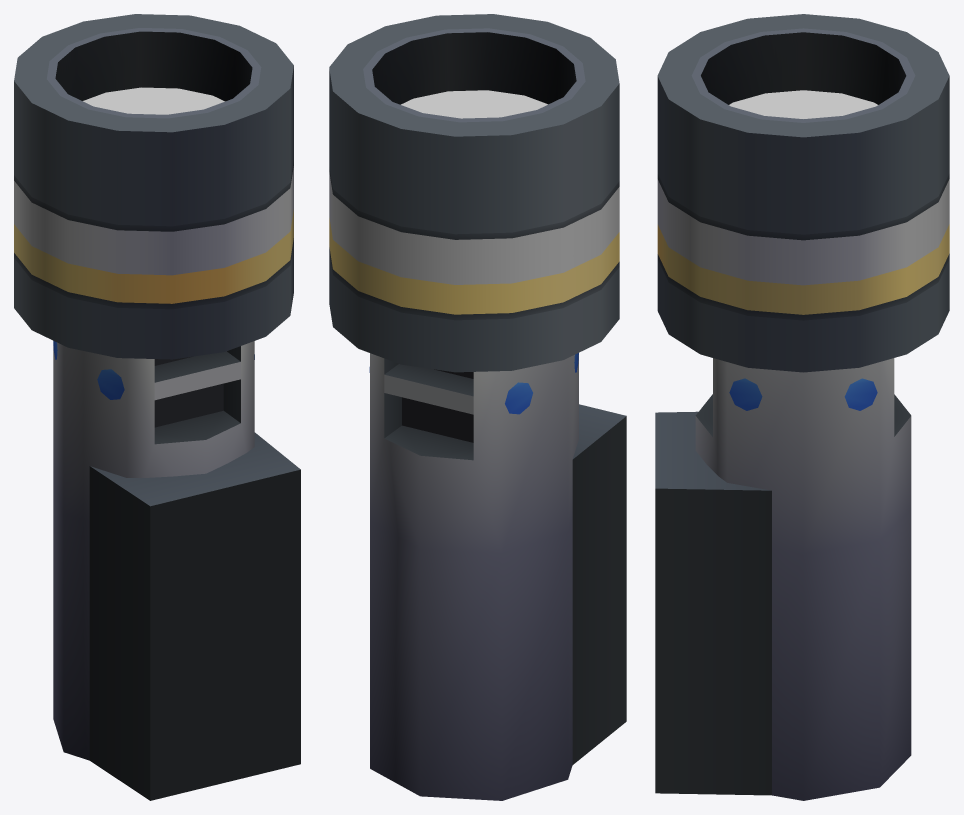
Rendered from ObservatoryTelescope.fbx.
3 views of the same model, side by side, from view 1: azimuth 30°, elevation 25°; view 2: azimuth 150°, elevation 25°; view 3: azimuth 270°, elevation 25° (orthographic). The views are drawn at different scales.
Parts seen in each view (by area): view 1: ObservatoryTelescope; view 2: ObservatoryTelescope; view 3: ObservatoryTelescope.
Boxes of the visible parts, x1,y1,x2,y2 form: ObservatoryTelescope: (14, 14, 300, 800); ObservatoryTelescope: (329, 14, 626, 800); ObservatoryTelescope: (655, 14, 949, 800).
Size of the model in its own units: 183 by 470 by 184.
